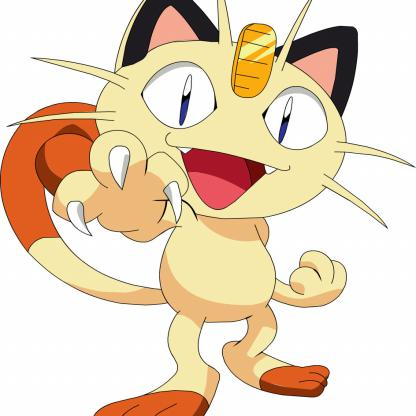Meowth: (2, 1, 387, 416)
